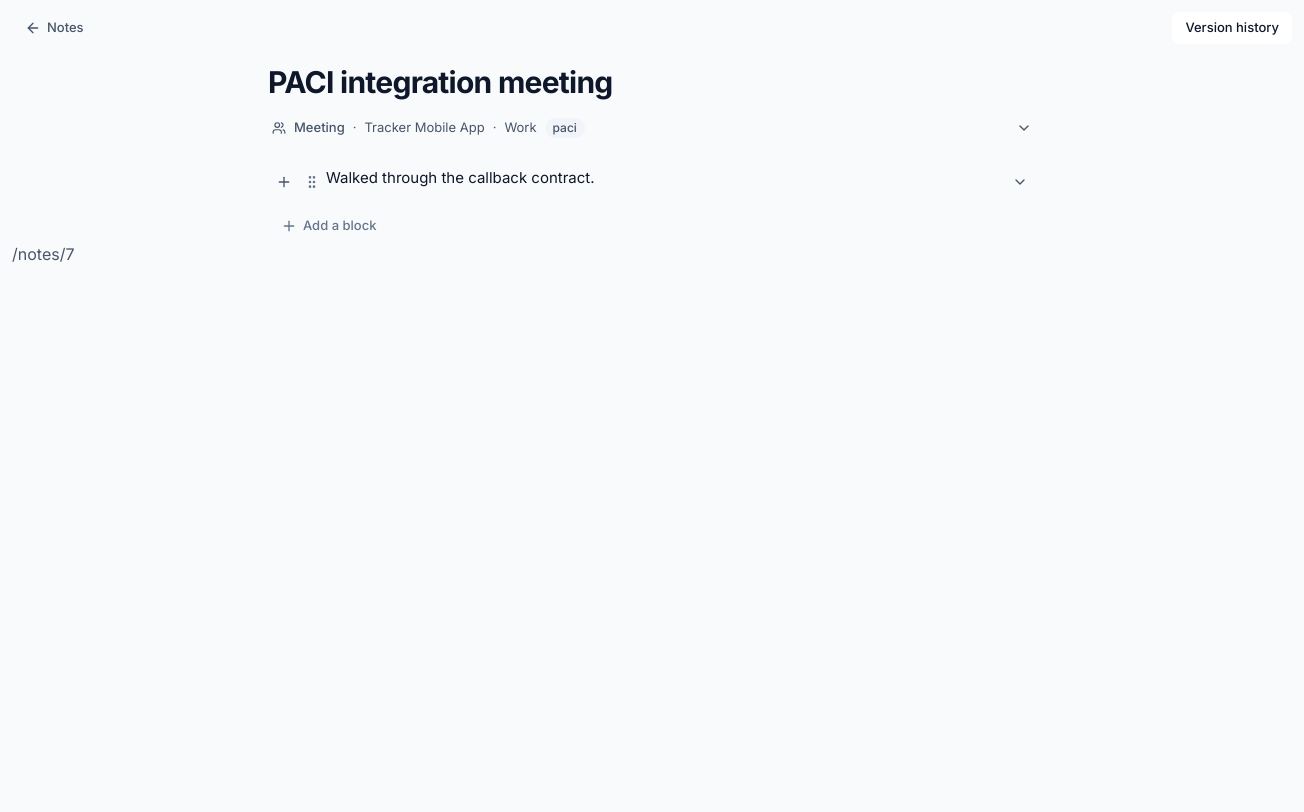
Test case: NotePage - the document is the editable surface › shows properties as a quiet summary that expands into controls
Check: the field labelled "Note type" is not shown
Click the button named "Edit note properties".
click(319, 127)  # box [268, 110, 1036, 146]
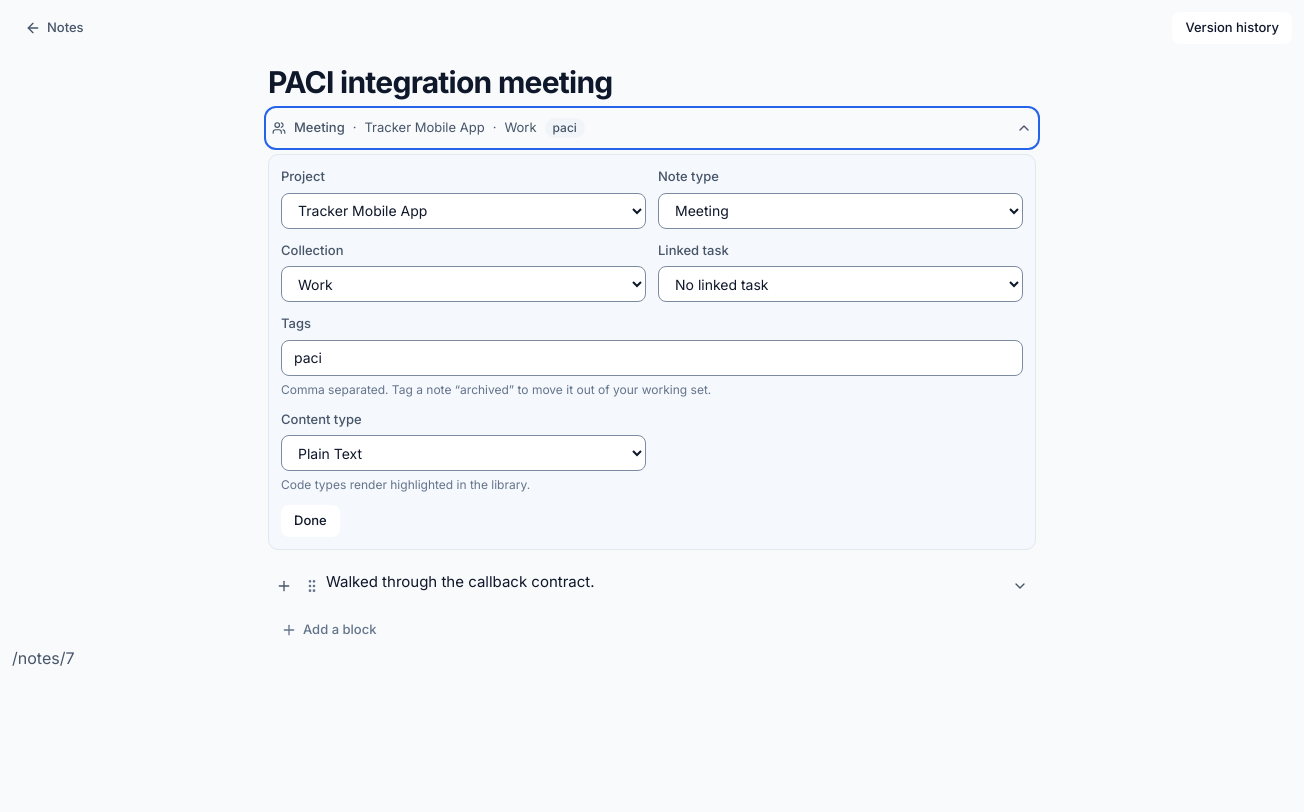
Check: the dropdown labelled "Note type" shows "Meeting", box [658, 192, 1023, 228]
Check: the dropdown labelled "Project" shows "Tracker Mobile App", box [281, 192, 646, 228]
Check: the dropdown labelled "Collection" shows "Work", box [281, 266, 646, 302]
